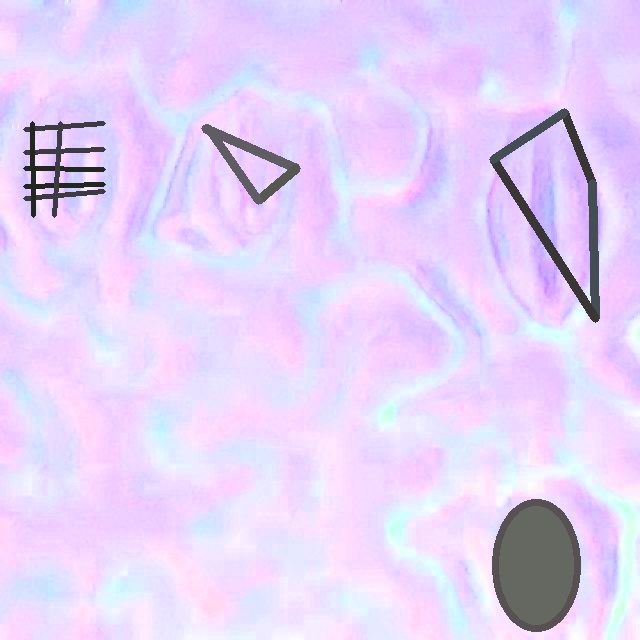close: (492, 499, 579, 630), (23, 121, 105, 217), (205, 124, 299, 204)
open: (489, 108, 596, 322)
